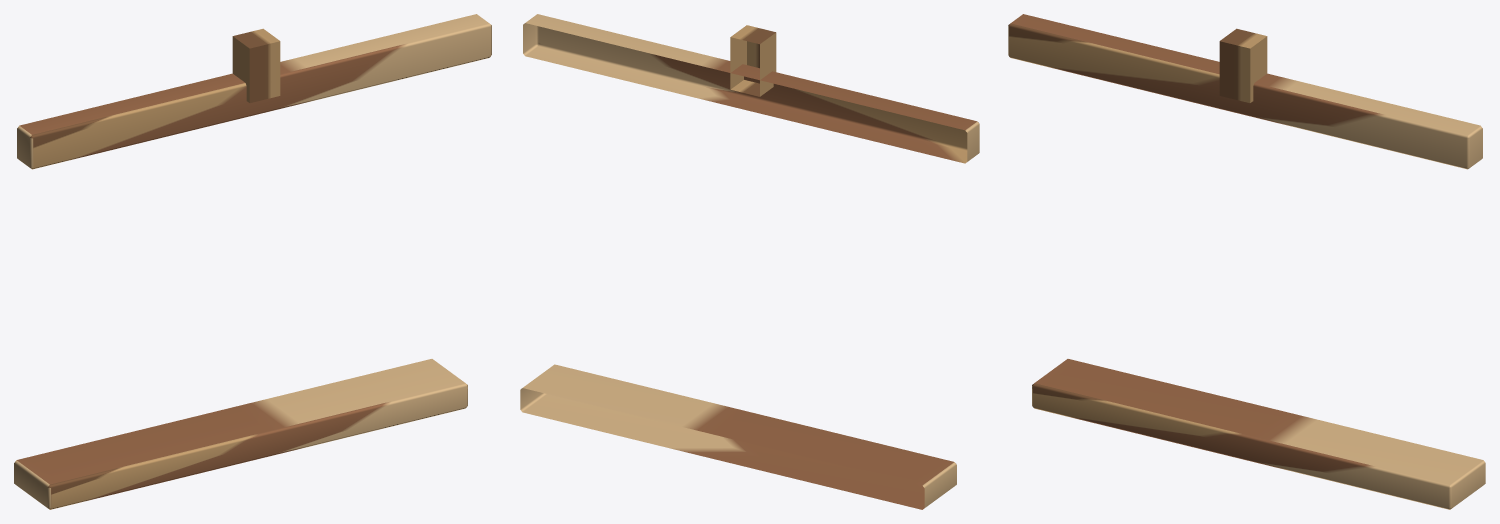
Rendered from DBK_WinWide_Trim_D_Full.fbx.
3 views of the same model, side by side, from view 1: azimuth 30°, elevation 25°; view 2: azimuth 150°, elevation 25°; view 3: azimuth 330°, elevation 25° (orthographic). The views are drawn at different scales.
Parts seen in each view (by area): view 1: DBK_WinWide_Trim_D_Full; view 2: DBK_WinWide_Trim_D_Full; view 3: DBK_WinWide_Trim_D_Full.
Boxes of the visible parts, <box> form: DBK_WinWide_Trim_D_Full: <box>14,14,491,509</box>; DBK_WinWide_Trim_D_Full: <box>520,14,979,509</box>; DBK_WinWide_Trim_D_Full: <box>1008,14,1485,509</box>.
Bounding box in the file's own units: 180 × 156 × 27.49.
